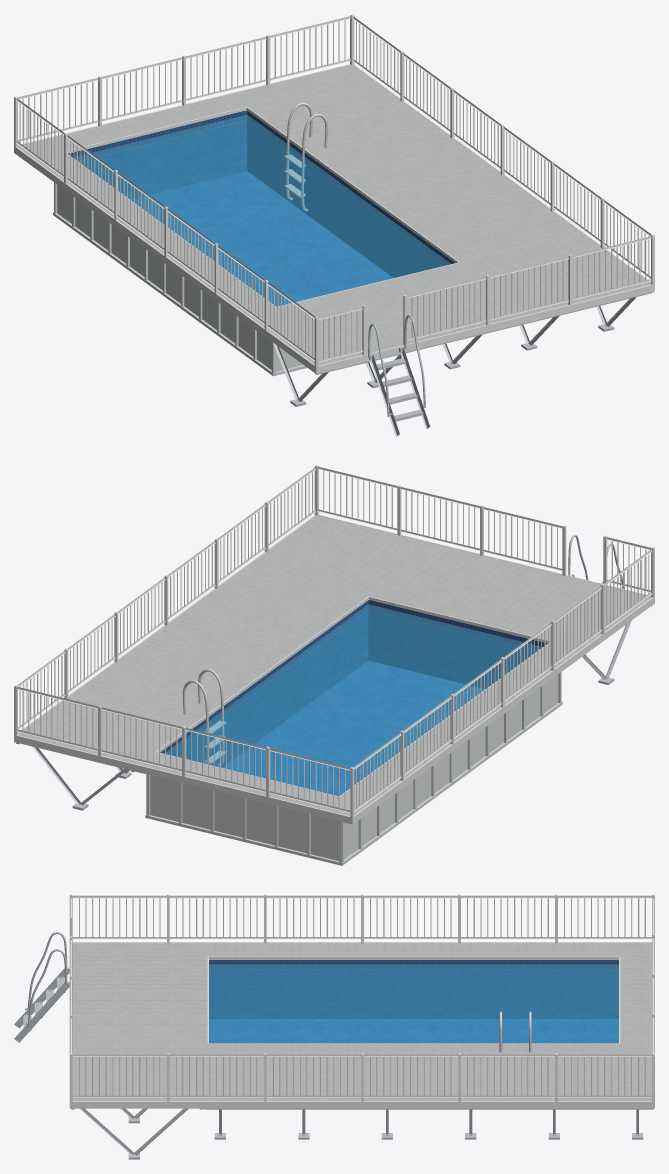
The model's file is kayak-pool-12x24-white-endside-ag-fence.b162fde47d.glb.
The picture shows the model from 3 angles, top to bottom: view 1: azimuth 30°, elevation 25°; view 2: azimuth 150°, elevation 25°; view 3: azimuth 270°, elevation 25°; orthographic projection. The views are drawn at different scales.
Parts seen in each view (by area): view 1: deck, water, fence, liner_wall, liner_floor, fascia, wall, upright, stud, ladder, steel; view 2: deck, water, fence, liner_wall, liner_floor, wall, fascia, upright, stud, steel; view 3: deck, water, liner_wall, fence, liner_floor, fascia, stud, ladder.
Boxes of the visible parts, box(x1,y1,x2,y2) form: deck: box(17, 64, 650, 365); water: box(74, 115, 450, 306); fence: box(14, 14, 654, 366); liner_wall: box(68, 110, 454, 277); liner_floor: box(131, 171, 392, 306); fascia: box(14, 64, 654, 373); wall: box(57, 185, 303, 371); upright: box(53, 182, 307, 376); stud: box(249, 292, 652, 406); ladder: box(368, 315, 430, 436); steel: box(284, 102, 327, 211); deck: box(18, 515, 651, 816); water: box(164, 604, 542, 795); fence: box(14, 465, 654, 817); liner_wall: box(160, 600, 547, 767); liner_floor: box(222, 660, 483, 795); wall: box(150, 674, 558, 860); fascia: box(14, 514, 654, 824); upright: box(145, 672, 562, 865); stud: box(16, 605, 652, 810); steel: box(183, 669, 226, 766); deck: box(72, 942, 651, 1101); water: box(209, 964, 618, 1043); liner_wall: box(209, 960, 618, 1018); fence: box(69, 894, 654, 1101); liner_floor: box(209, 1019, 618, 1043); fascia: box(69, 942, 654, 1108); stud: box(71, 1108, 653, 1159); ladder: box(14, 932, 69, 1042).
Size of the model in its own units: 6.71 by 2.15 by 11.35.
11 materials, 3 textured.
